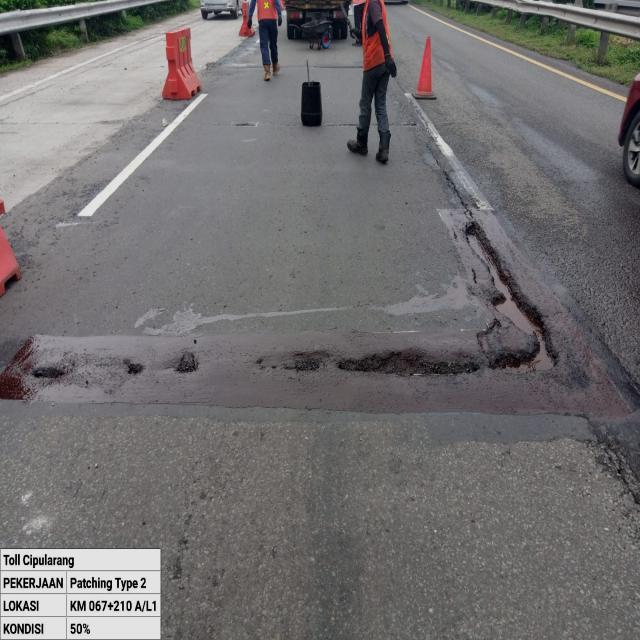Buraco: (459, 219, 564, 378), (332, 346, 484, 380), (281, 348, 333, 373), (28, 361, 78, 382), (172, 350, 200, 374), (120, 356, 147, 378), (233, 121, 257, 128)
